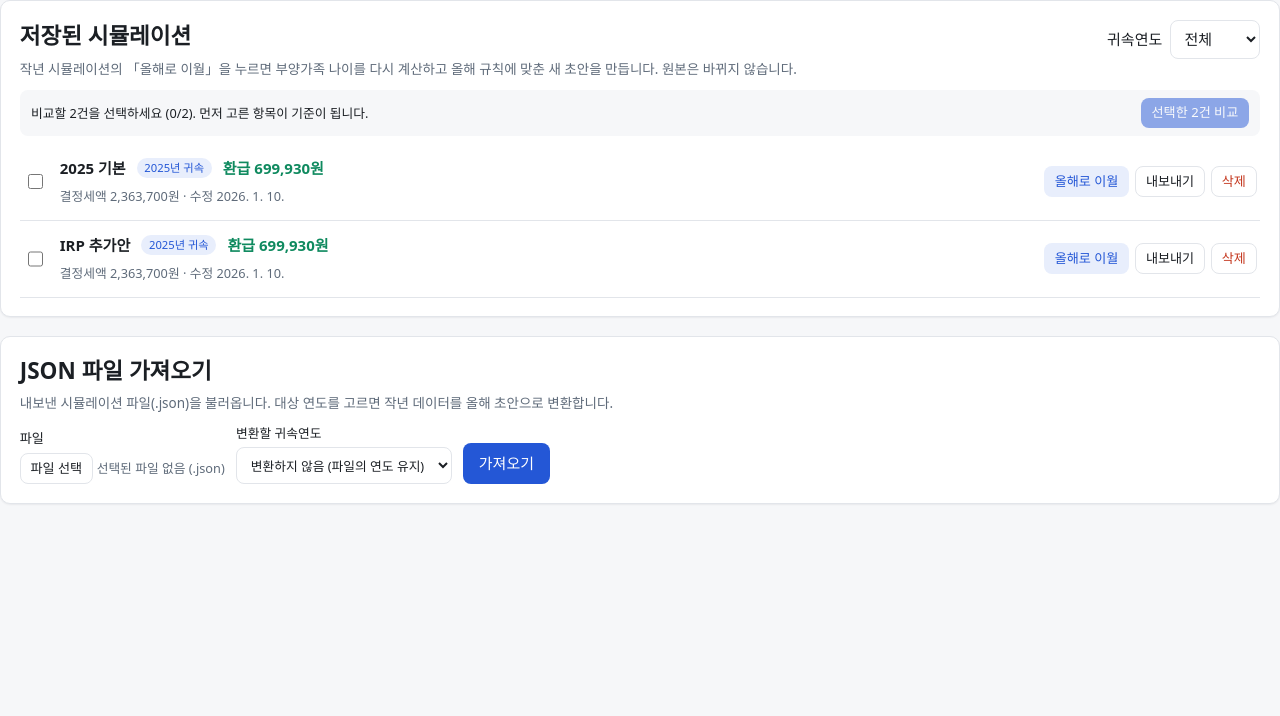
Test case: 저장 목록에서 2건 비교 › 두 건을 선택해 비교 화면으로 이동한다
Check: the button "선택한 2건 비교" is disabled, box [1141,98,1249,128]
What coordinates should you click on to do the following:
click the checkbox named "2025 기본 비교 선택"
I would click on:
 (35, 182)
Its box is [28,174,43,189].
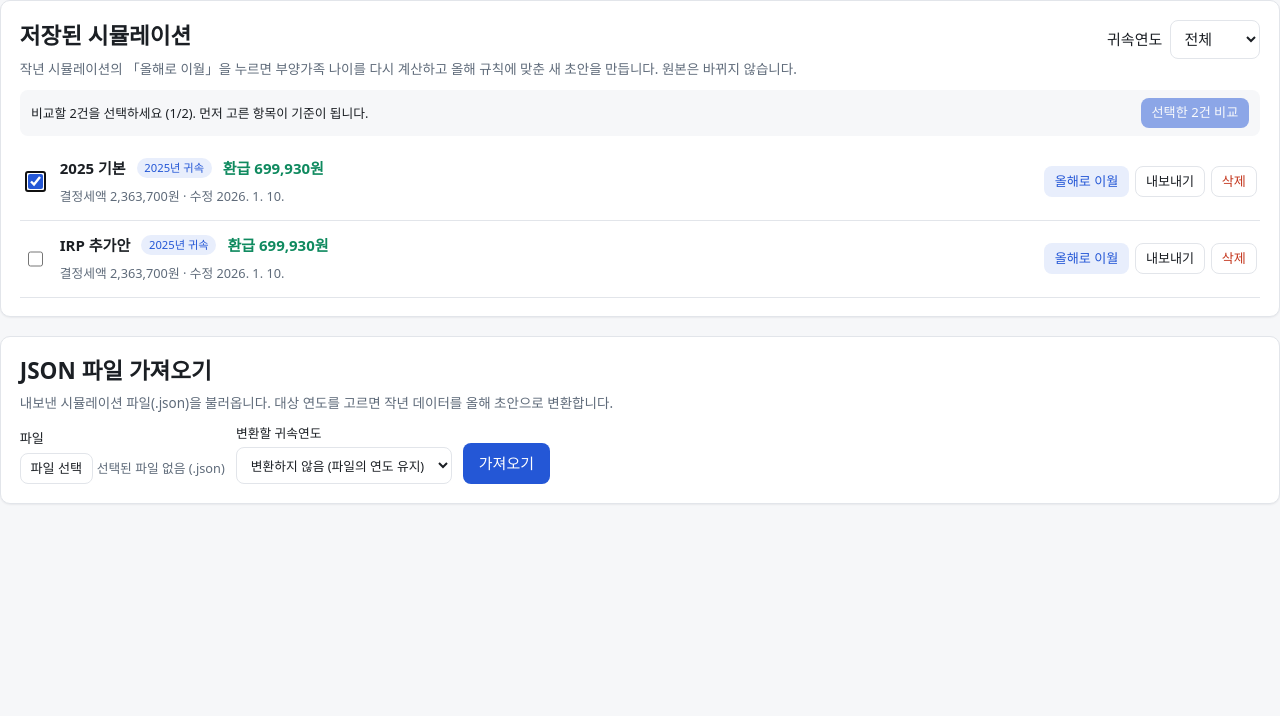
What coordinates should you click on to do the following:
click the checkbox named "IRP 추가안 비교 선택"
I would click on:
 (35, 259)
Its box is [28,251,43,267].
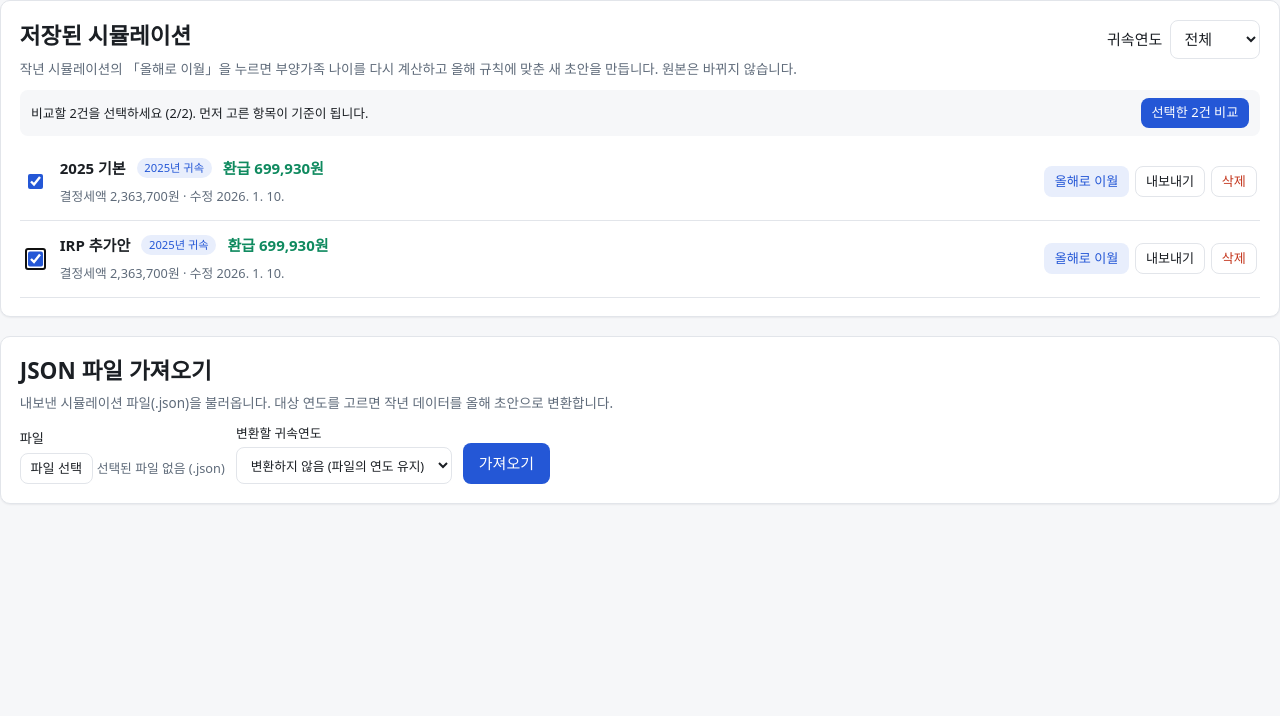
Check: the button "선택한 2건 비교" is enabled
What coordinates should you click on to do the following:
click the button "선택한 2건 비교"
I would click on:
 (1195, 113)
Its box is [1141,98,1249,128].
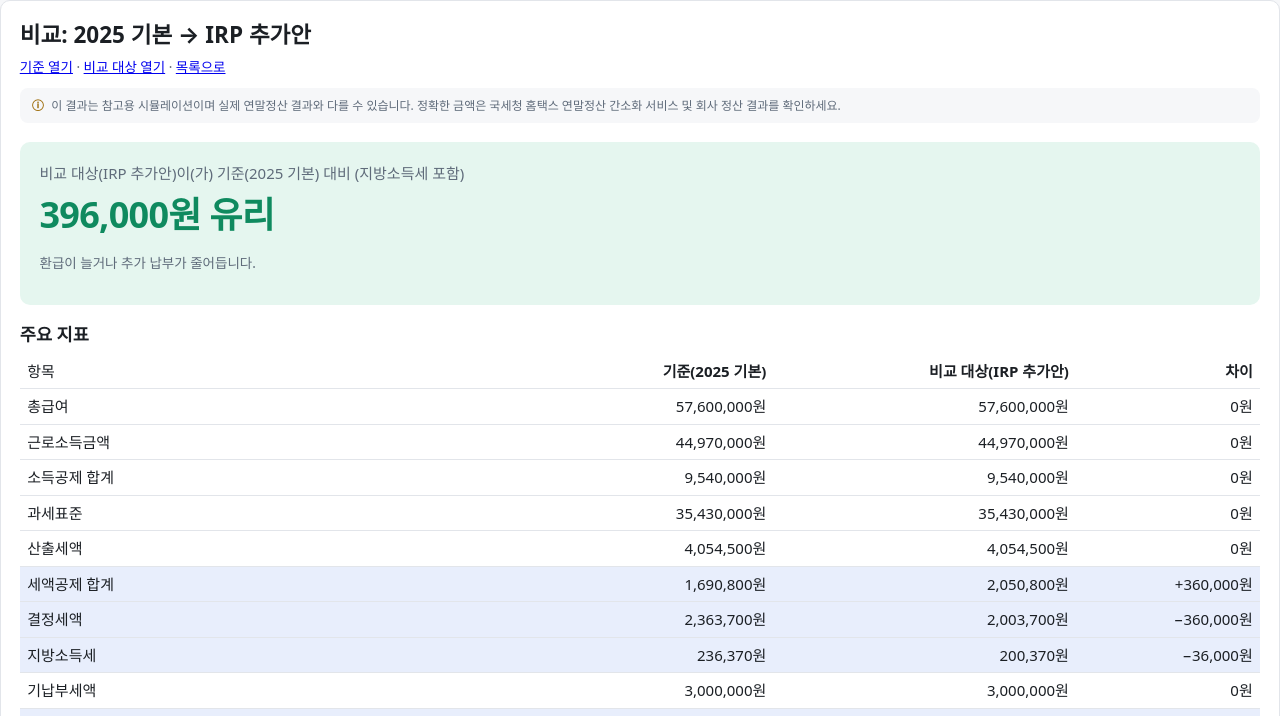
Check: the heading "비교: 2025 기본 → IRP 추가안" is shown, box [20,19,311,50]
Check: the text with test id "compare-saving" reads "396,000원 유리", box [40,190,274,239]
